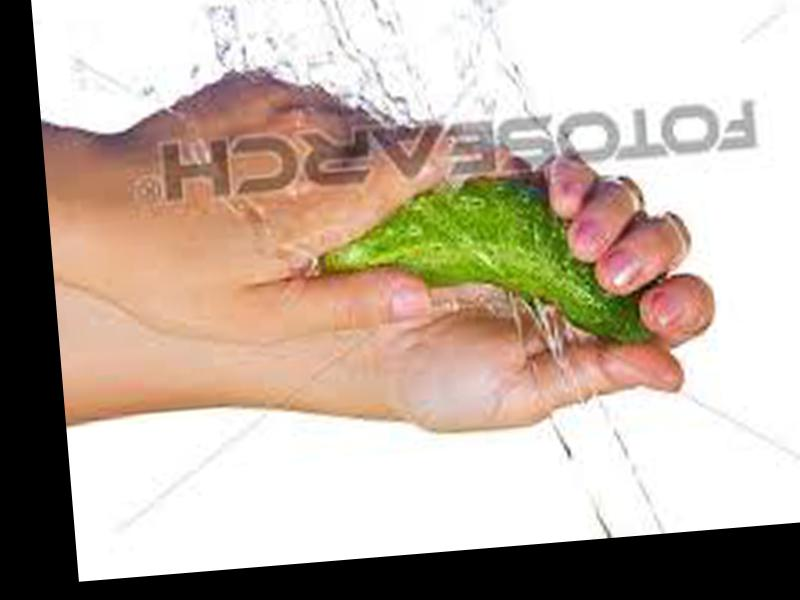Cucumber: (304, 159, 657, 370)
